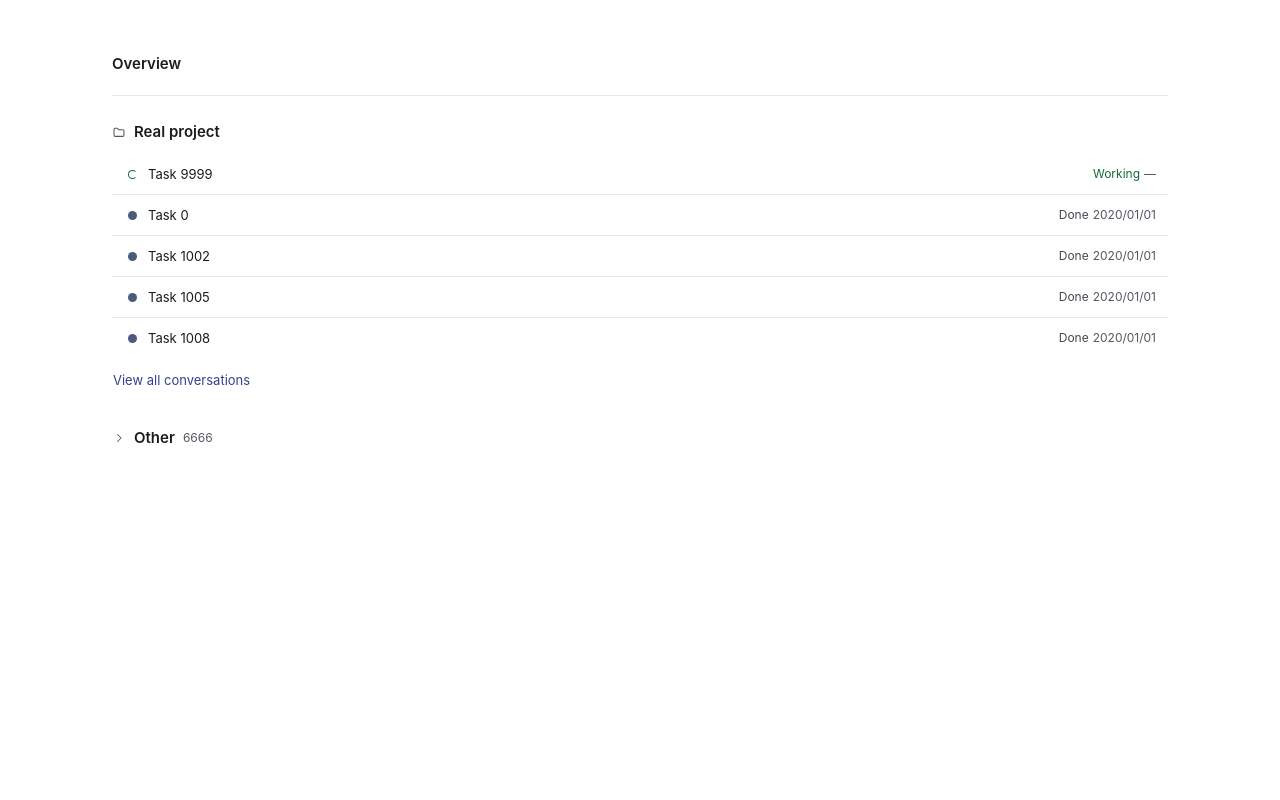
Test case: shows at most five roots per project with running roots first
Click the heading "Other 6666": x=162, y=438 [112,428,213,447]
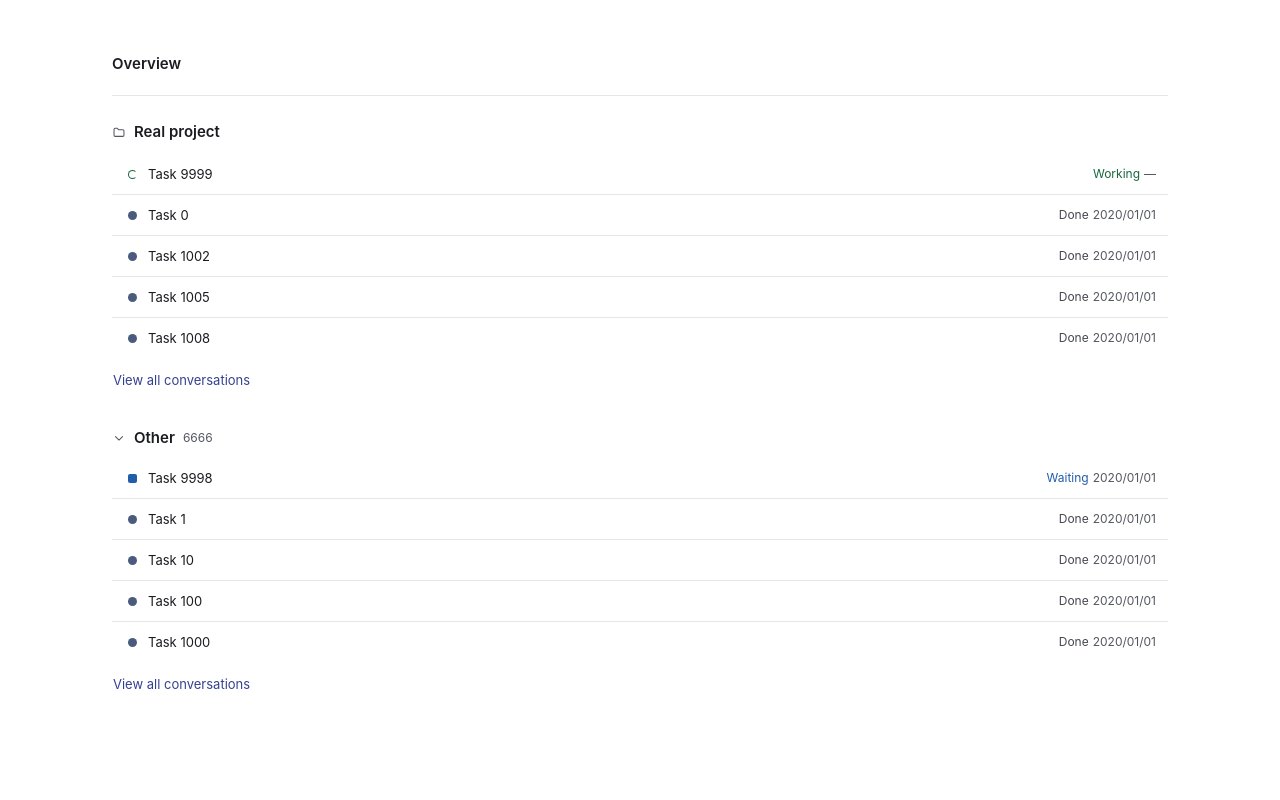
Expected: the link with class "root-row" shows "Task 9999", [128,166,1156,182]
Result: the link with class "root-row" shows "Task 9998" at [128,470,1156,486]
